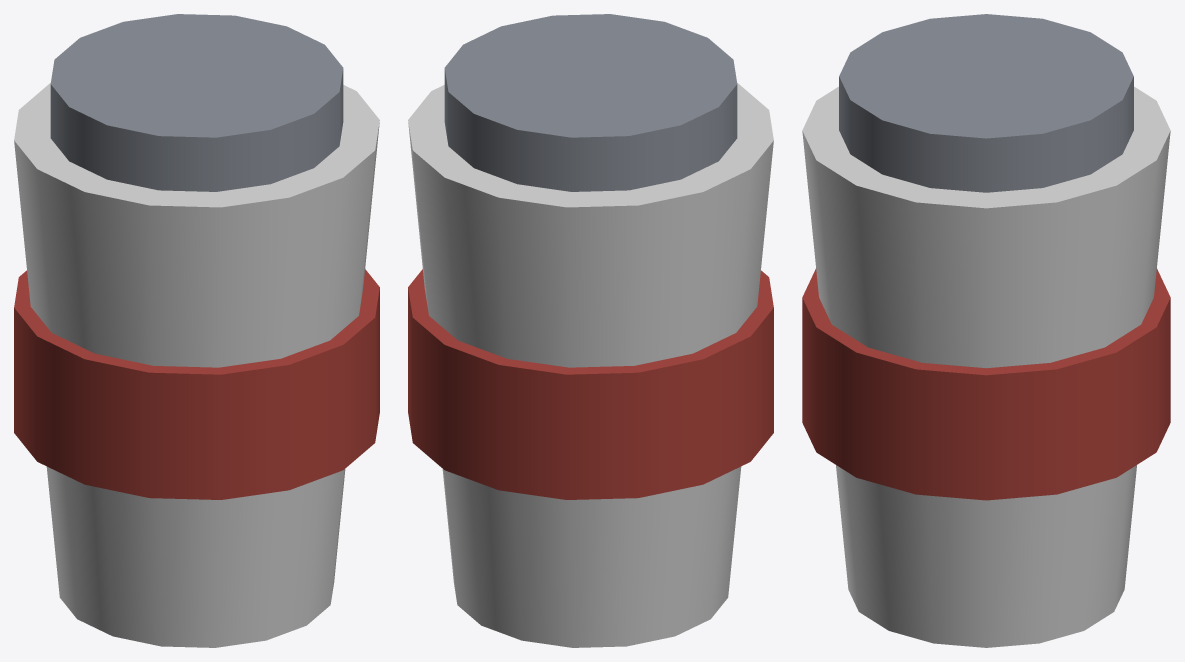
The model's file is papercup.glb.
3 renders of one model, left to right at view 1: azimuth 30°, elevation 25°; view 2: azimuth 150°, elevation 25°; view 3: azimuth 270°, elevation 25°, orthographic.
Visible parts, largest first — view 1: cyl (×3); view 2: cyl (×3); view 3: cyl (×3).
Boxes of the visible parts, x1,y1,x2,y2 form: cyl (×3): (14, 14, 379, 647); cyl (×3): (408, 14, 773, 647); cyl (×3): (802, 14, 1170, 647).
Size of the model in its own units: 0.08 by 0.123 by 0.08.
